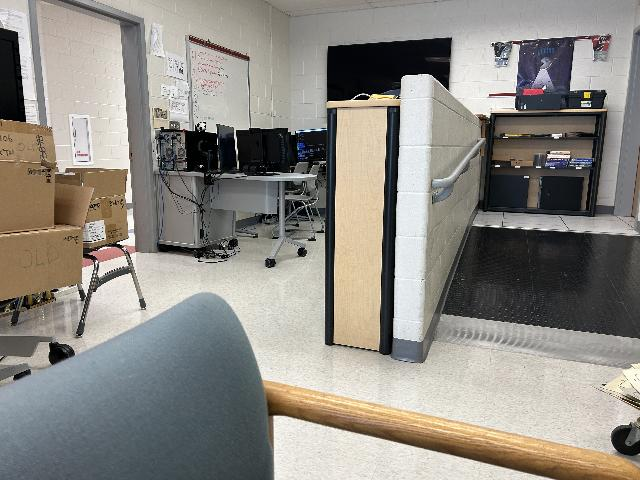panda_plushie: (196, 122, 207, 132)
